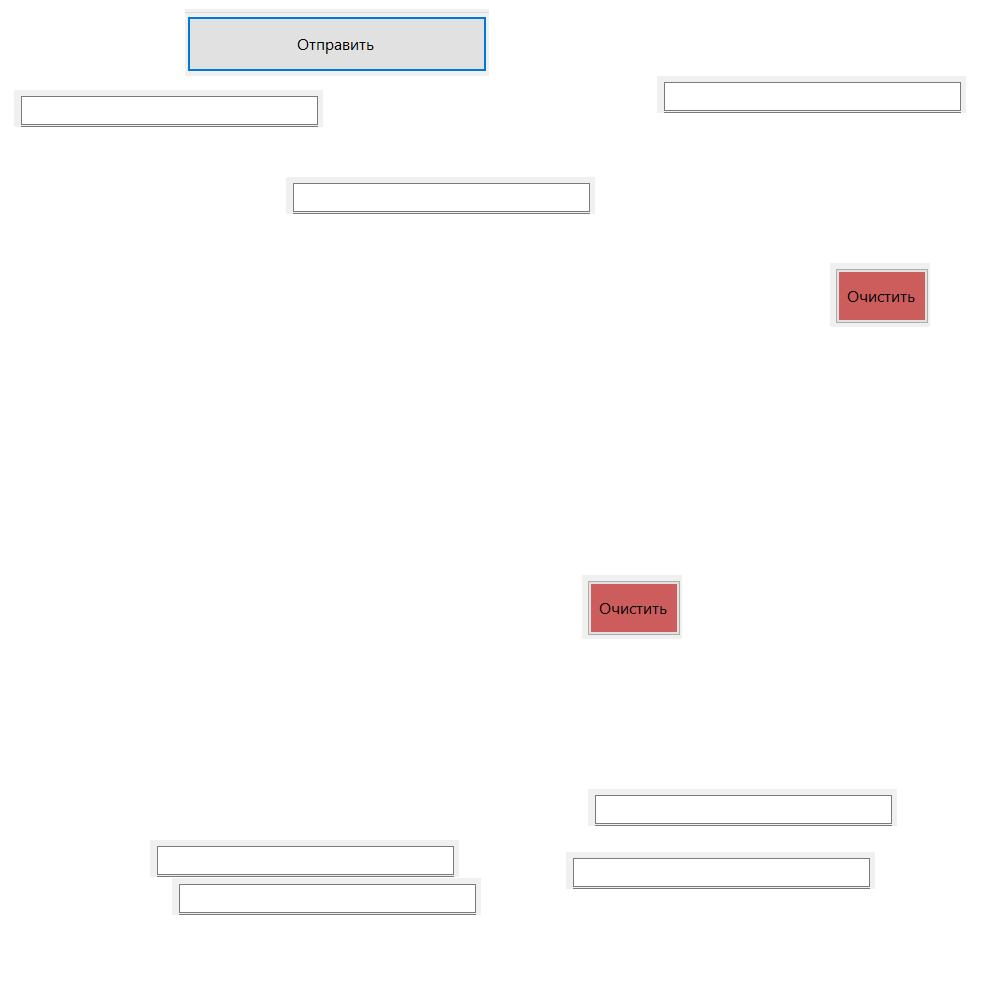Button: (185, 9, 489, 76), (582, 575, 682, 639), (830, 263, 930, 327)
EditText-: (588, 789, 897, 826), (657, 76, 966, 113), (566, 852, 875, 889), (286, 177, 595, 214), (172, 878, 481, 915), (150, 840, 459, 877), (14, 90, 323, 127)
